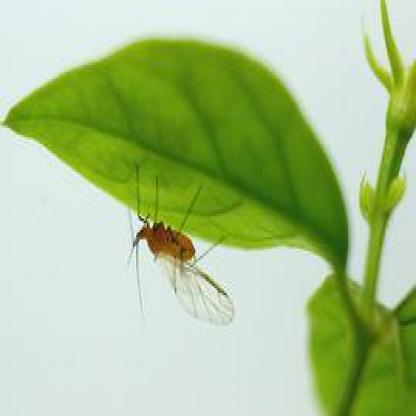aphid: (111, 155, 237, 330)
